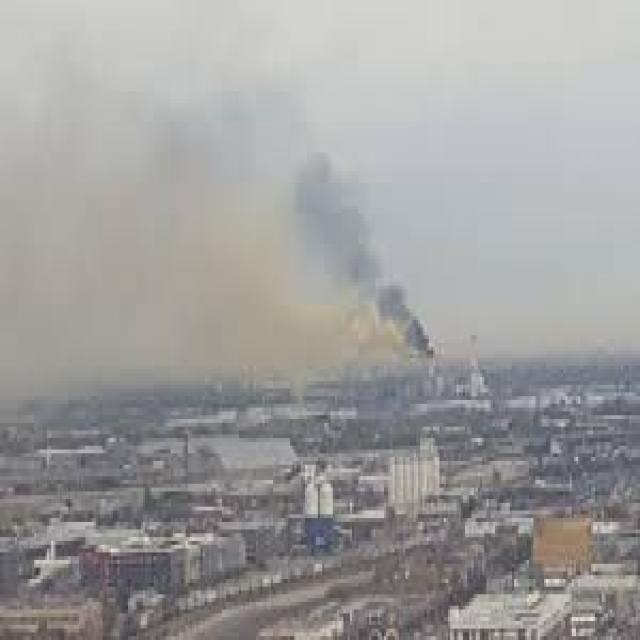smoke: (283, 199, 453, 394)
